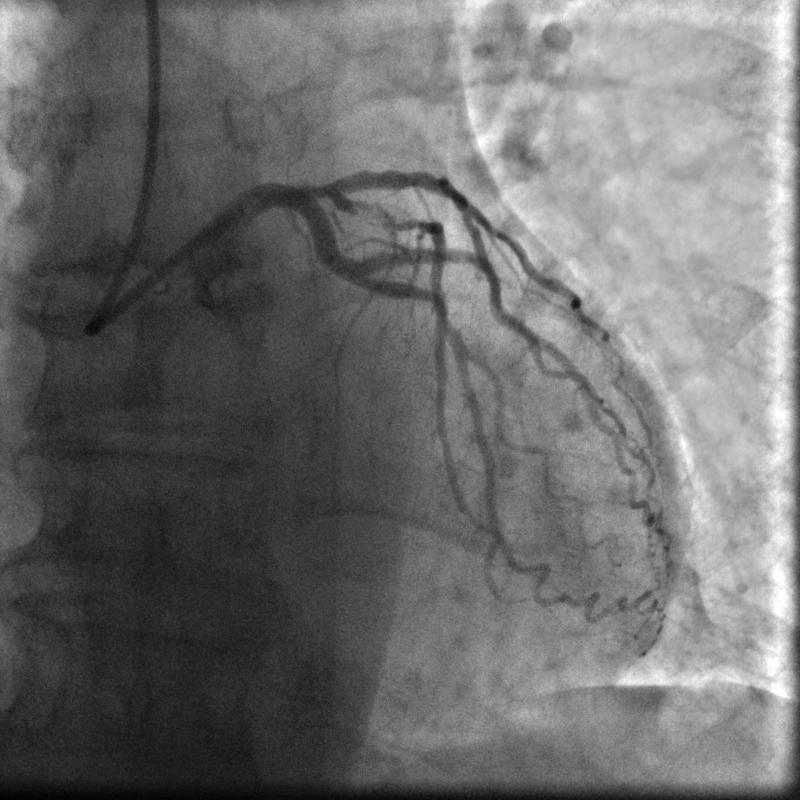Stenosis: (349, 195, 421, 235)
